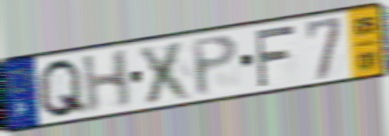7: (303, 14, 344, 82)
F: (252, 22, 297, 90)
H: (80, 46, 133, 116)
P: (189, 32, 241, 99)
Q: (36, 56, 91, 121)
X: (136, 37, 196, 106)
